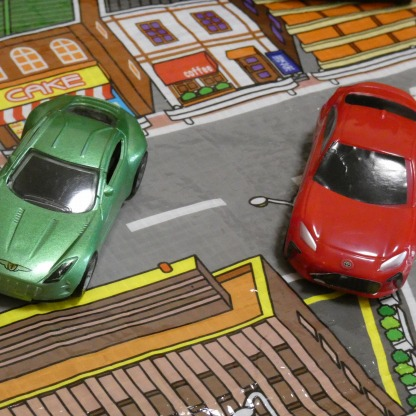car: (0, 93, 152, 302), (289, 81, 416, 303)
